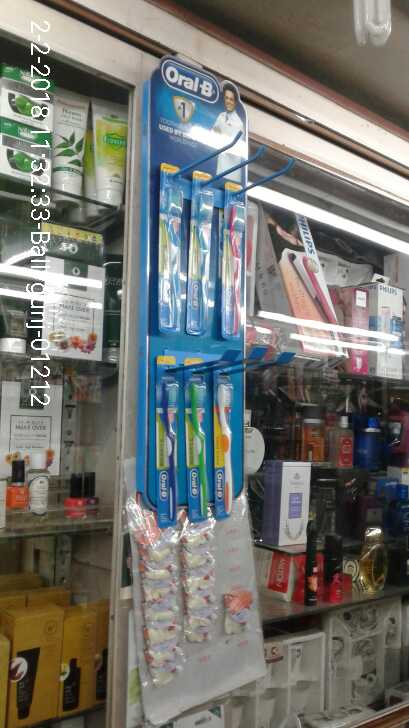oralb: (155, 347, 182, 528), (219, 179, 244, 342), (212, 362, 236, 520), (188, 355, 209, 524), (162, 162, 181, 337), (189, 169, 206, 336)
